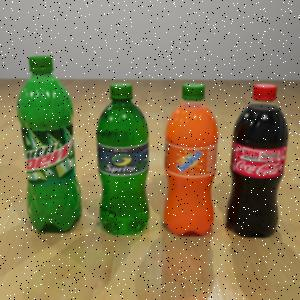Plastic-bottle: (17, 56, 84, 235), (226, 83, 291, 239), (164, 83, 221, 239), (96, 83, 152, 237)
